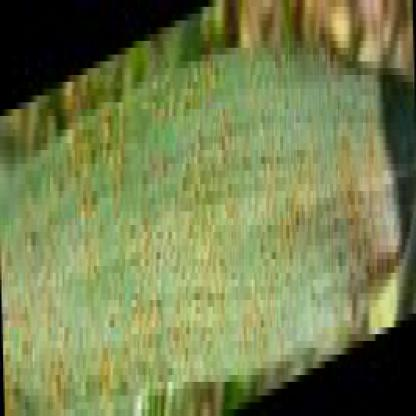Wheat Brown-rust: (5, 152, 378, 349), (6, 363, 190, 415), (119, 109, 334, 135), (382, 126, 412, 297)
